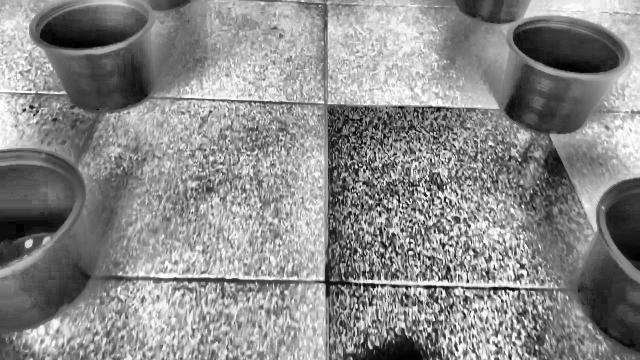pot: (0, 150, 96, 330), (500, 16, 632, 135), (29, 0, 156, 113), (574, 178, 640, 356)
